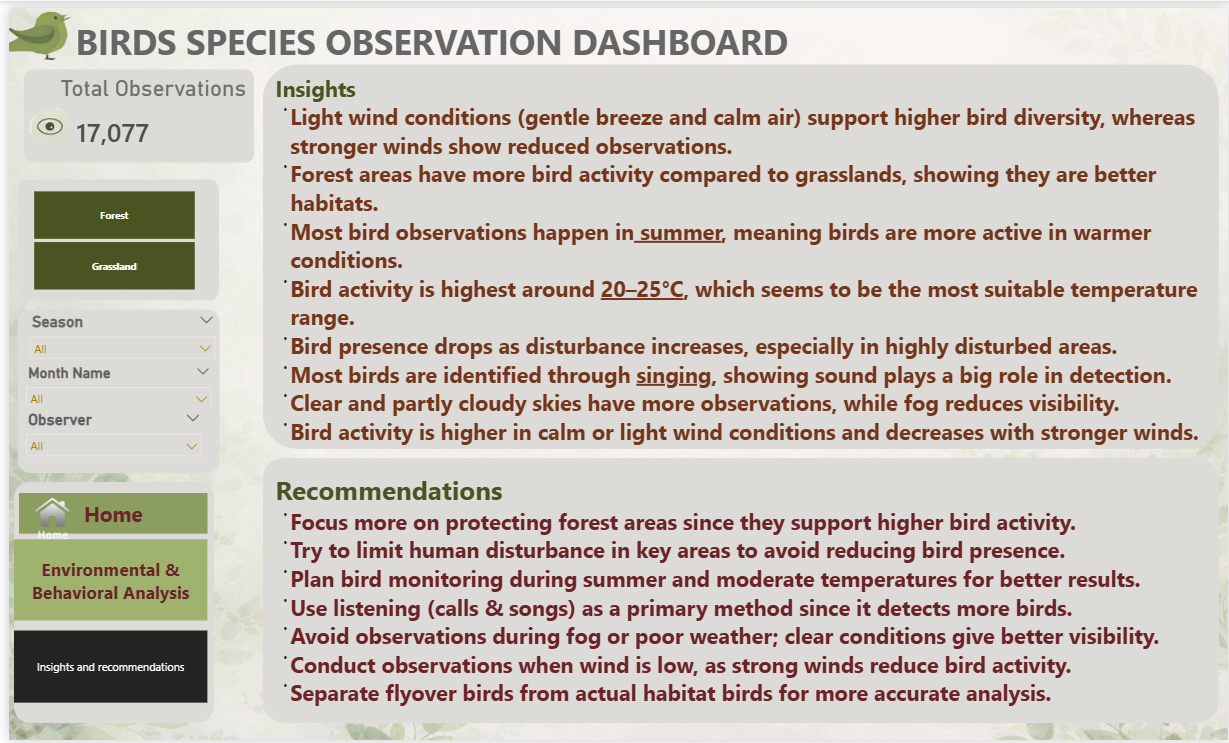

This screenshot's page, from the dashboard's own definition file:
{"tool":"powerbi","page":{"name":"Insights and recommendations ","canvas":[1500,900],"ordinal":2},"visuals":[{"type":"group","id":"g1","title":"Group 2","box":[312.3,69.2,1176.9,473.8],"z":0,"group":"g3"},{"type":"shape","box":[312.3,69.2,1176.9,473.8],"z":0,"group":"g1"},{"type":"shape","box":[18.1,75.4,283.2,115],"z":0,"group":"g6"},{"type":"cardVisual","title":"Total Observations","fields":{"Data":["birds_analysis bird_data.Total_observation"]},"box":[53.7,83.4,247.6,105.1],"z":0,"group":"g2"},{"type":"shape","box":[6.2,583.1,246.2,296.9],"z":0},{"type":"image","box":[15.4,122.8,69.8,44.5],"z":1000,"group":"g2"},{"type":"group","id":"g2","title":"Group 1","box":[15.4,83.4,285.9,105.1],"z":1002,"group":"g6"},{"type":"group","id":"g3","title":"Group 3","box":[312.3,69.2,1176.9,473.8],"z":2000},{"type":"shape","box":[312.3,553.8,1176.9,326.2],"z":6000},{"type":"shape","box":[10.8,210.8,247.7,149.2],"z":8000},{"type":"slicer","fields":{"Values":["birds_analysis bird_data.Ecosystem"]},"box":[4.6,218.5,247.7,135.4],"z":9000},{"type":"group","id":"g4","title":"Group 8","box":[10.8,370.8,253.8,201.5],"z":10000},{"type":"textbox","box":[76.9,6.2,992.3,81.5],"z":11000},{"type":"image","box":[0,0,77.5,69],"z":12000},{"type":"shape","box":[10.8,370.8,248.7,201.5],"z":18000,"group":"g4"},{"type":"slicer","fields":{"Values":["birds_analysis bird_data.Observer"]},"box":[10.8,491,236.6,62.5],"z":19000,"group":"g5"},{"type":"slicer","fields":{"Values":["birds_analysis bird_data.Season"]},"box":[16,370.8,248.7,71.9],"z":19500,"group":"g5"},{"type":"slicer","fields":{"Values":["birds_analysis bird_data.Month Name"]},"box":[10.8,433.3,248.7,57.8],"z":20000,"group":"g5"},{"type":"group","id":"g5","title":"Group 7","box":[10.8,370.8,253.8,182.7],"z":20002,"group":"g4"},{"type":"group","id":"g6","title":"Group 2","box":[15.4,75.4,286.2,115.4],"z":22000},{"type":"pageNavigator","box":[12.3,596.9,232.3,50.8],"z":24000},{"type":"image","box":[0,603.1,107.7,50.8],"z":25000},{"type":"pageNavigator","box":[6.2,653.8,238.5,100],"z":26000},{"type":"pageNavigator","box":[6.2,766.2,238.5,89.2],"z":26001},{"type":"textbox","box":[323.1,75.4,1176.9,473.8],"z":26002},{"type":"textbox","box":[323.1,566.2,1124.6,300],"z":26003}]}

Visuals, with their boxes in screenshot pixels (x1, y1, x2, y2), scaled from the page's 1500x900 canvas onto the 1229x743 screenshot:
"Group 2" group: select_region(256, 57, 1220, 448)
shape: select_region(256, 57, 1220, 448)
shape: select_region(15, 62, 247, 157)
"Total Observations" cardVisual: select_region(44, 69, 247, 156)
shape: select_region(5, 481, 207, 726)
image: select_region(13, 101, 70, 138)
"Group 1" group: select_region(13, 69, 247, 156)
"Group 3" group: select_region(256, 57, 1220, 448)
shape: select_region(256, 457, 1220, 726)
shape: select_region(9, 174, 212, 297)
slicer - birds_analysis bird_data.Ecosystem: select_region(4, 180, 207, 292)
"Group 8" group: select_region(9, 306, 217, 472)
textbox: select_region(63, 5, 876, 72)
image: select_region(0, 0, 63, 57)
shape: select_region(9, 306, 213, 472)
slicer - birds_analysis bird_data.Observer: select_region(9, 405, 203, 457)
slicer - birds_analysis bird_data.Season: select_region(13, 306, 217, 365)
slicer - birds_analysis bird_data.Month Name: select_region(9, 358, 213, 405)
"Group 7" group: select_region(9, 306, 217, 457)
"Group 2" group: select_region(13, 62, 247, 158)
pageNavigator: select_region(10, 493, 200, 535)
image: select_region(0, 498, 88, 540)
pageNavigator: select_region(5, 540, 200, 622)
pageNavigator: select_region(5, 633, 200, 706)
textbox: select_region(265, 62, 1228, 453)
textbox: select_region(265, 467, 1186, 715)
